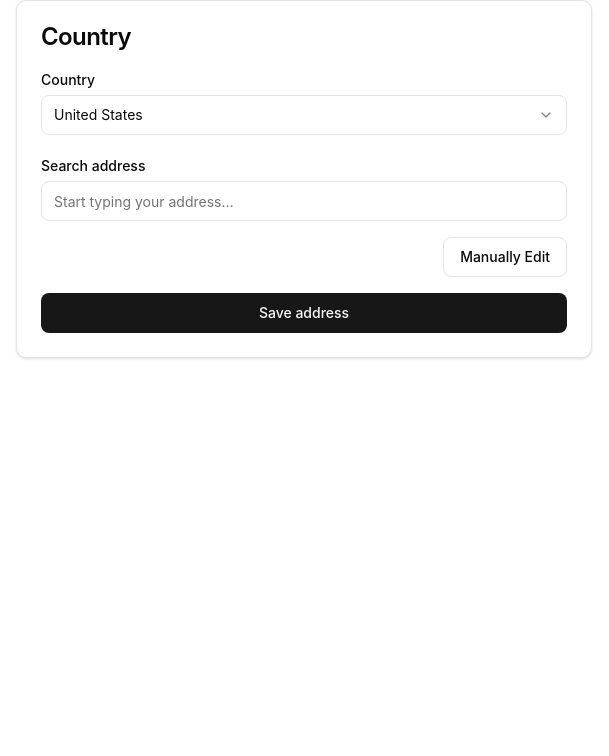
it: AddressForm — metadata-driven render (US1) › sources the dropdown options from country metadata
Click the button "Manually Edit" at (505, 257), box [443,237,567,277]
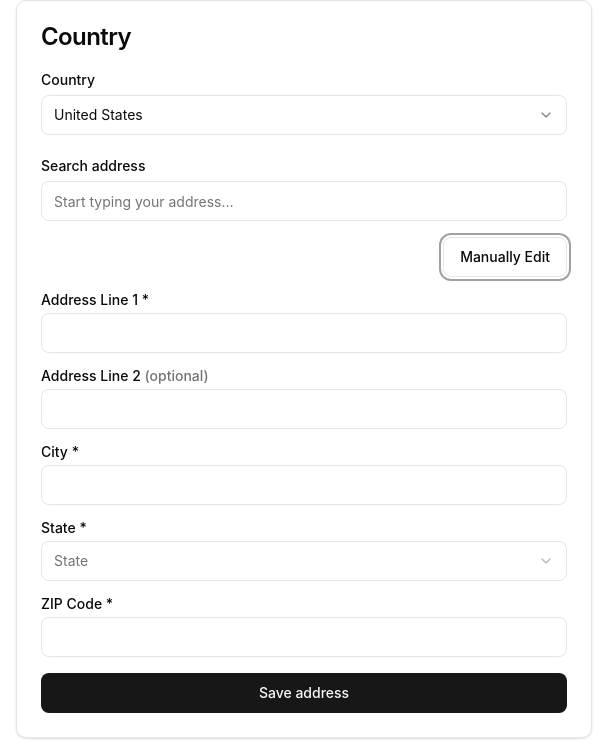
Click the dropdown labelled "State" at (71, 560), box [41,541,567,581]
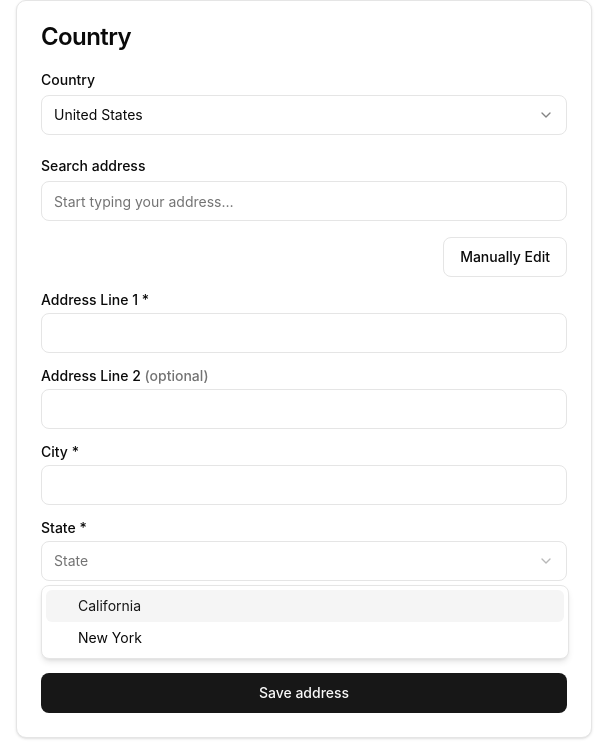
Check: the text "California" is shown, box [78,596,141,616]
Check: the text "New York" is shown, box [78,628,142,648]
